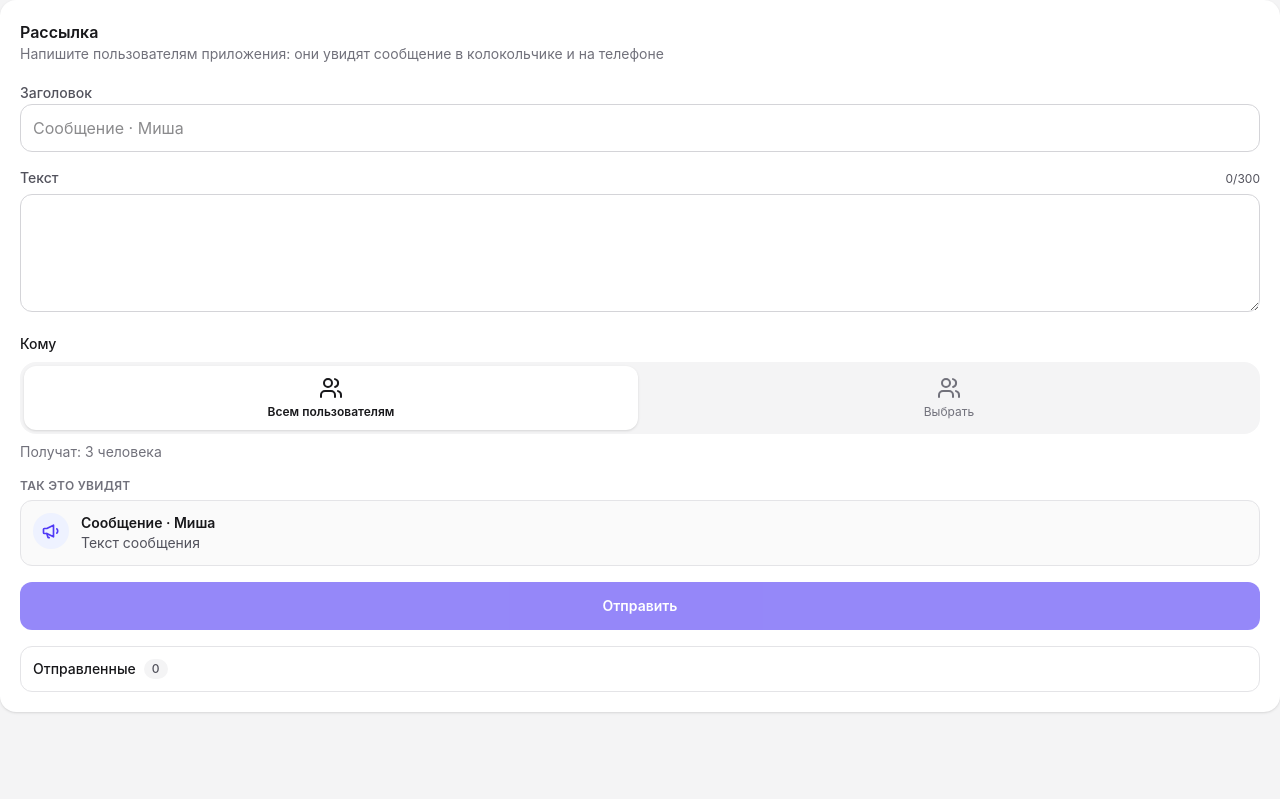
Test: карточка администратора › список для выбора: имя, группа, «владелец»
This screenshot has width=1280, height=799.
Click the radio button labelled "Выбрать" at x=949, y=398, box left=642, top=366, right=1256, bottom=430
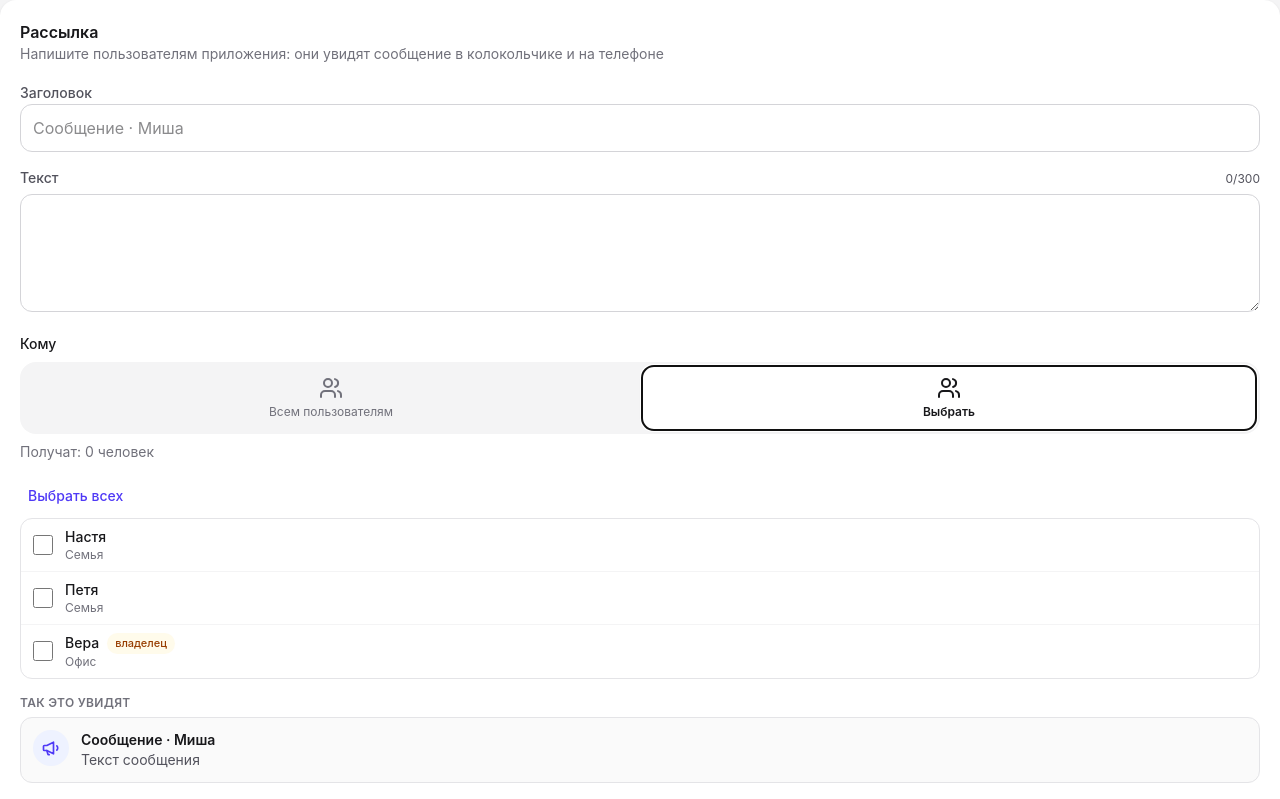
Expected: the text "Вера" is shown, left=65, top=633, right=99, bottom=653
Expected: the text "Офис" is shown, left=65, top=654, right=96, bottom=668
Expected: the text "владелец" is shown, left=107, top=633, right=175, bottom=654
